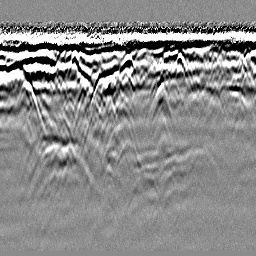cavity: (119, 52, 135, 72)
